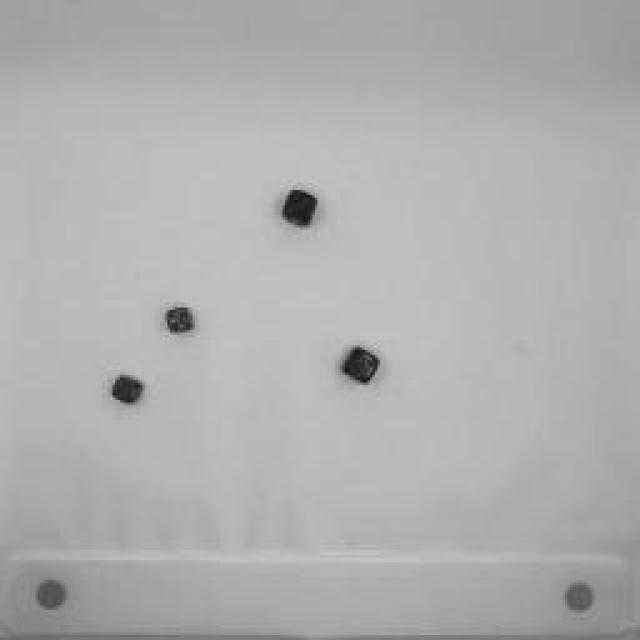dice_2: (335, 342, 385, 390), (108, 372, 148, 408)
dice_3: (277, 186, 325, 234)
dice_4: (161, 302, 199, 338)
